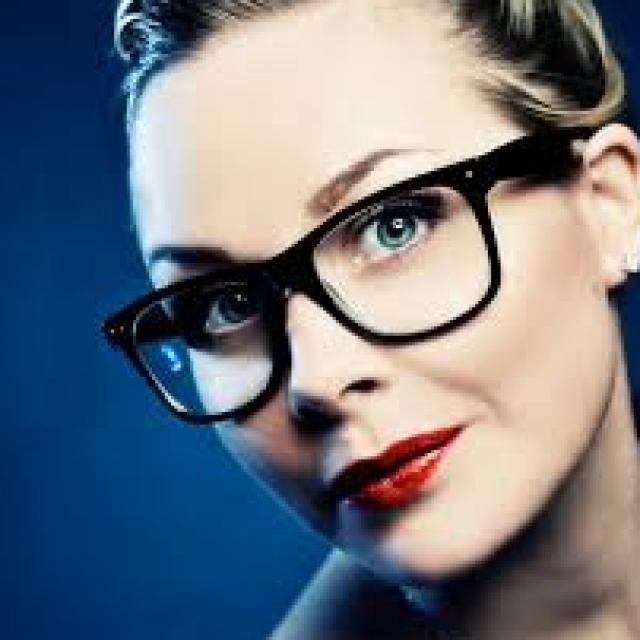Glasses: (86, 145, 514, 436)
